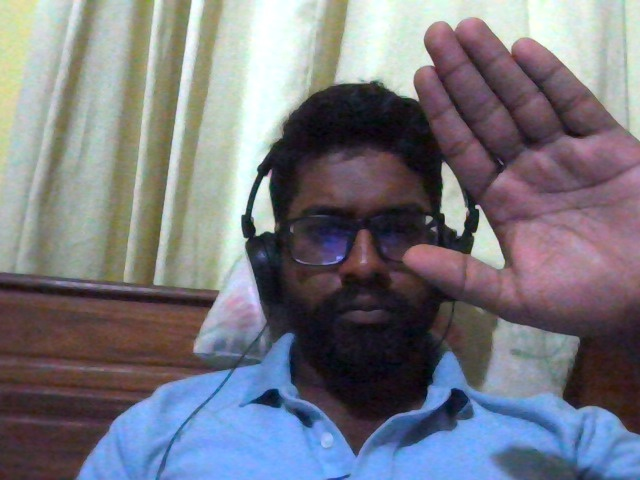Hello: (382, 8, 640, 367)
